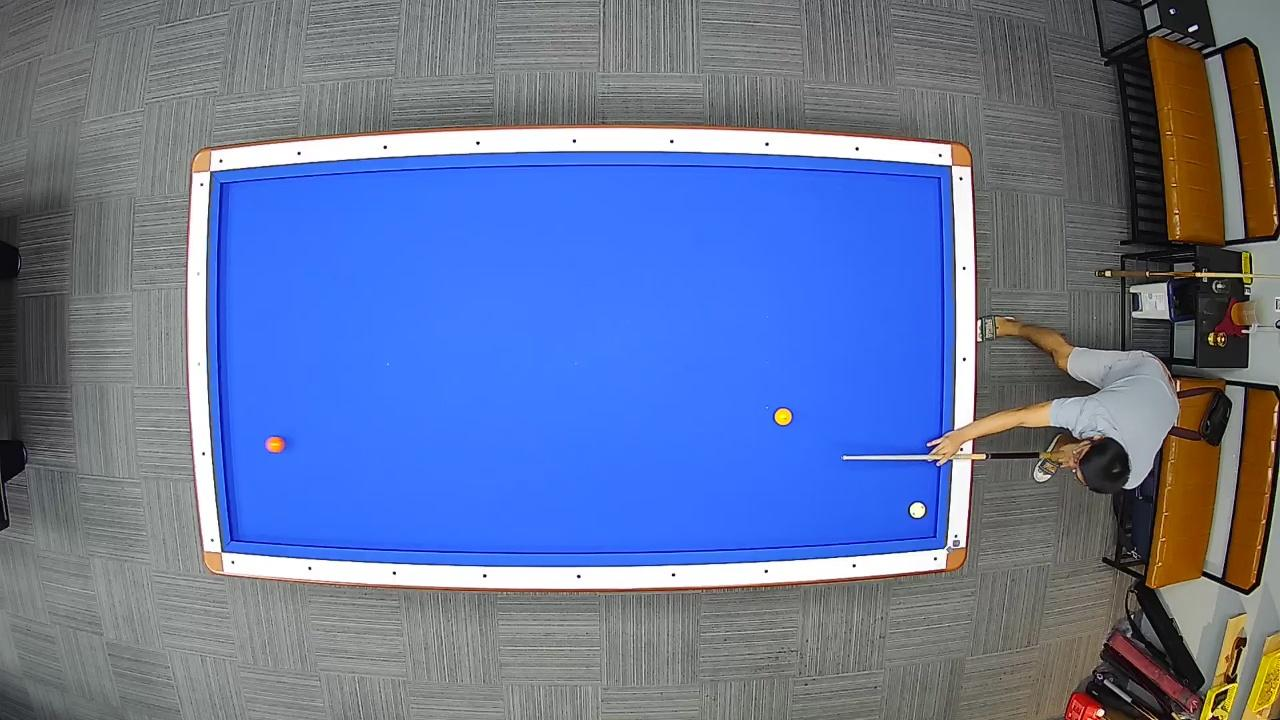Orange: (265, 436, 289, 456)
White: (908, 500, 927, 520)
Yellow: (773, 407, 795, 428)
